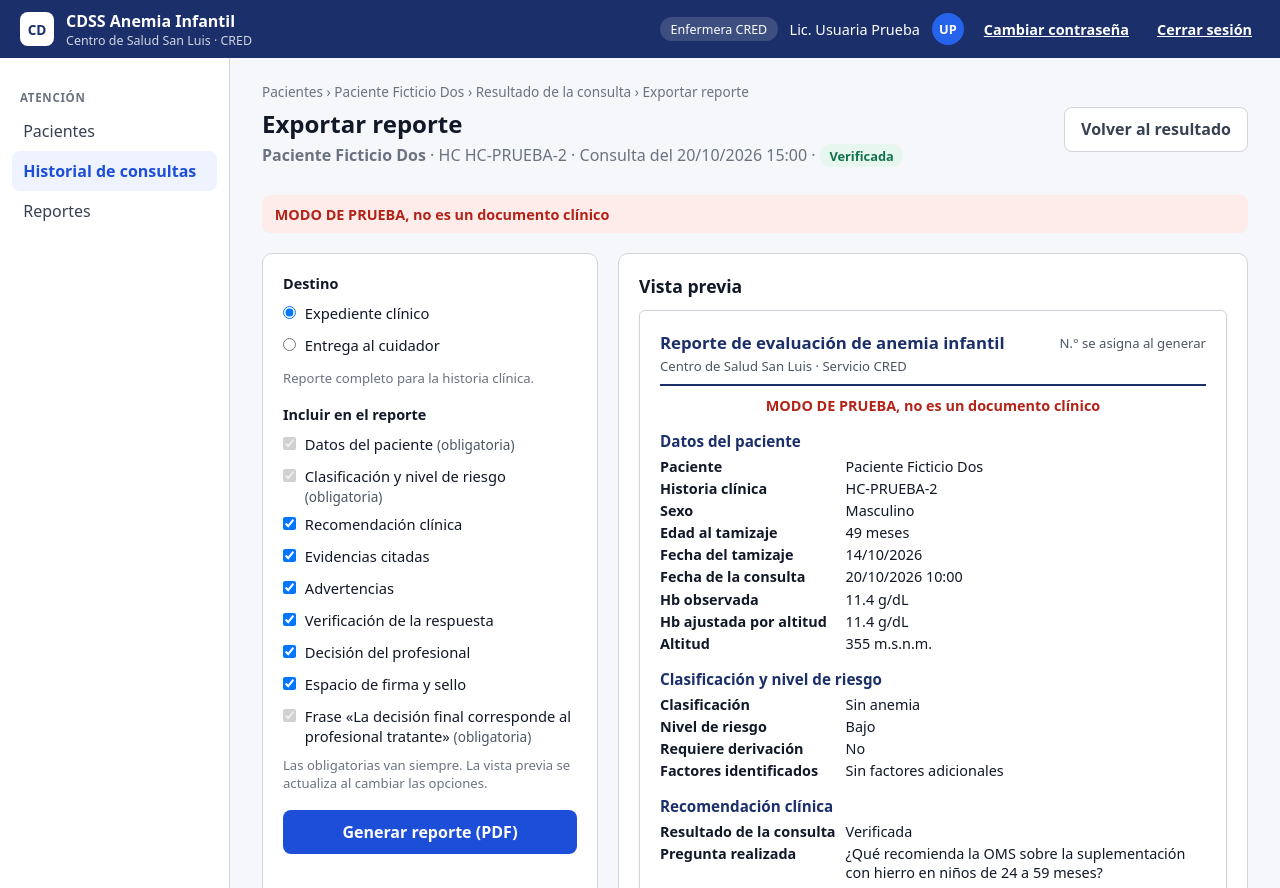
it: M09 · opciones y vista previa › al cambiar de destino muestra sus secciones, pide la vista previa y avisa del texto en revisión
Expected: the text "Texto en revisión clínica: no entregar a pacientes" is not shown
Click the radio button labelled "Entrega al cuidador". click: (290,345)
box: [283,338,296,351]
(page scrolled)
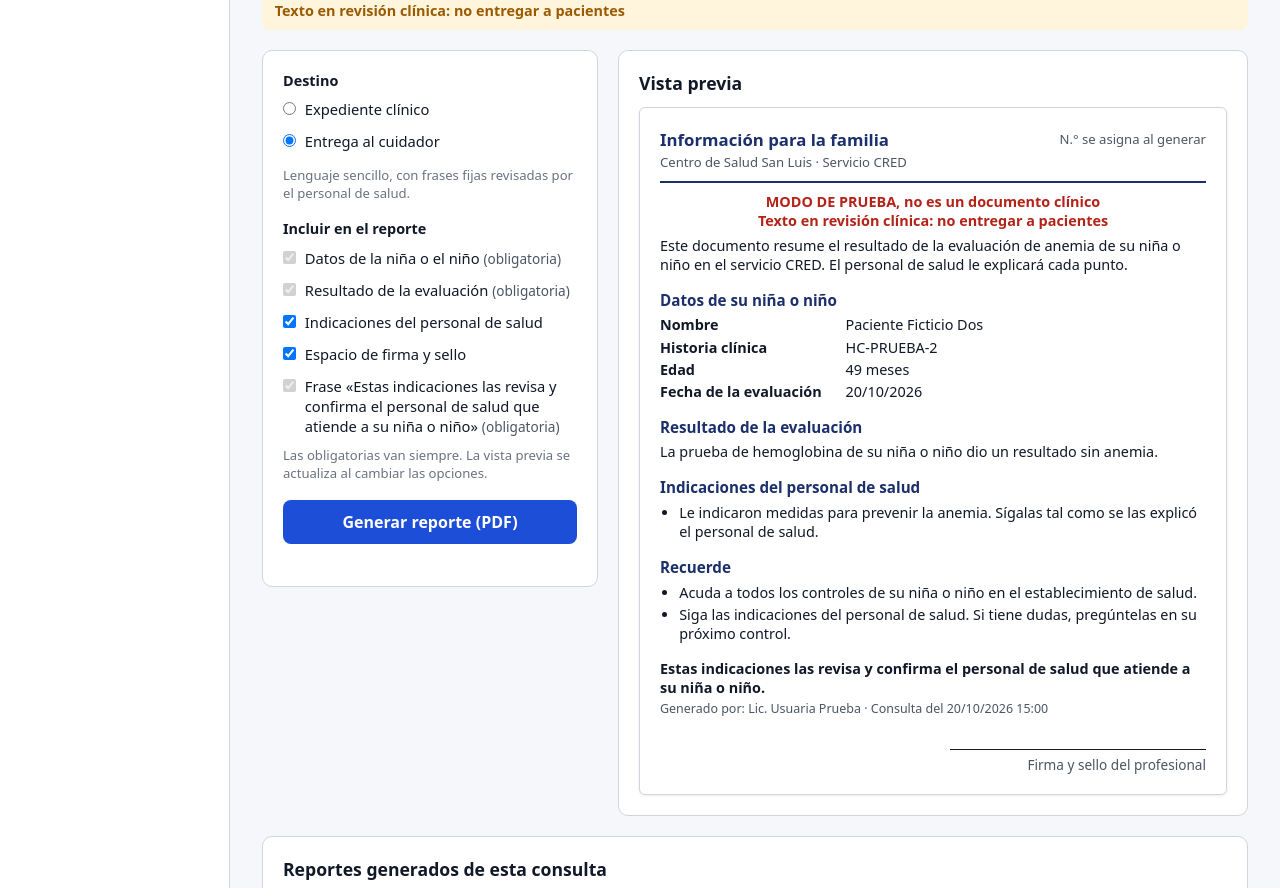
Now the text "Evidencias citadas" is gone
Now the checkbox labelled "La decisión final corresponde" is gone
Now the text "Texto en revisión clínica: no entregar a pacientes" is shown, box [275,1,625,20]
